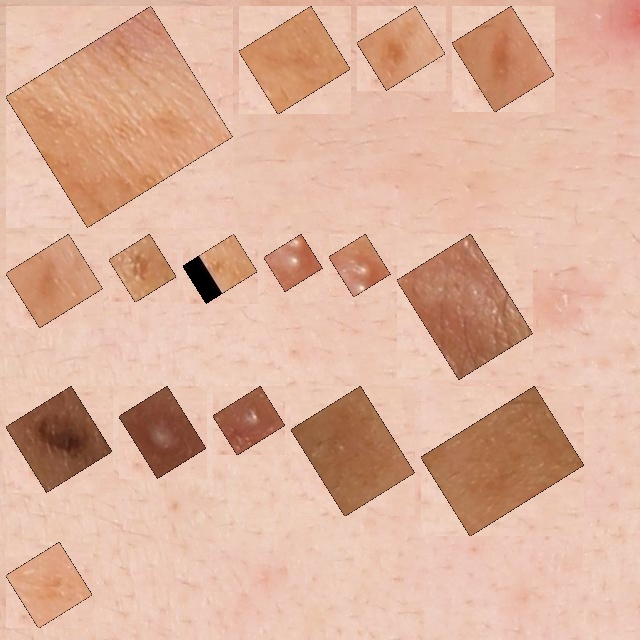hypertrophic_scar: (408, 245, 522, 368)
melasma: (17, 17, 222, 216), (432, 397, 573, 525), (302, 397, 404, 505), (250, 17, 339, 103), (463, 17, 543, 101), (17, 245, 92, 316), (17, 553, 81, 617), (368, 17, 434, 79), (194, 245, 246, 292), (120, 245, 165, 291)
nevus: (17, 397, 101, 481)
pustule: (130, 397, 195, 467), (224, 397, 274, 444), (340, 245, 379, 286), (275, 245, 311, 280)
